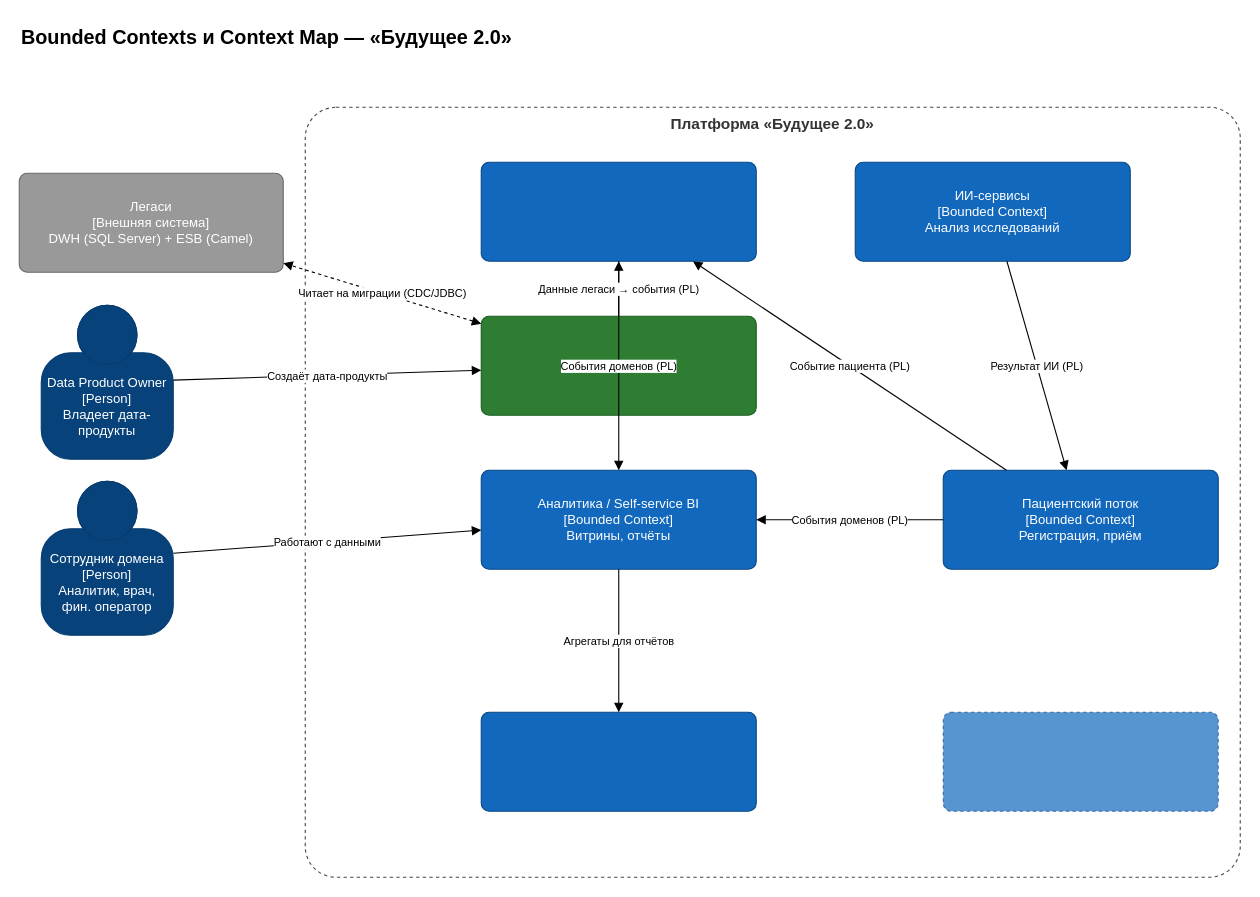
Some shapes in this 1260 by 897 pixel diagram are drawn without their labels. The box of each missing label's shape, as (x1, y1, x2, y2) in pixels:
ACL [Подсистема] Изолирующий слой — изоляция легаси: (480, 315, 756, 415)
Головной офис [Bounded Context] Корпоративная отчётность: (480, 711, 756, 811)
Фарма, Электроника [Bounded Context — финал] Перспективные домены: (942, 711, 1218, 811)
Финтех [Bounded Context] Кредиты, счета, платежи: (480, 161, 756, 261)
